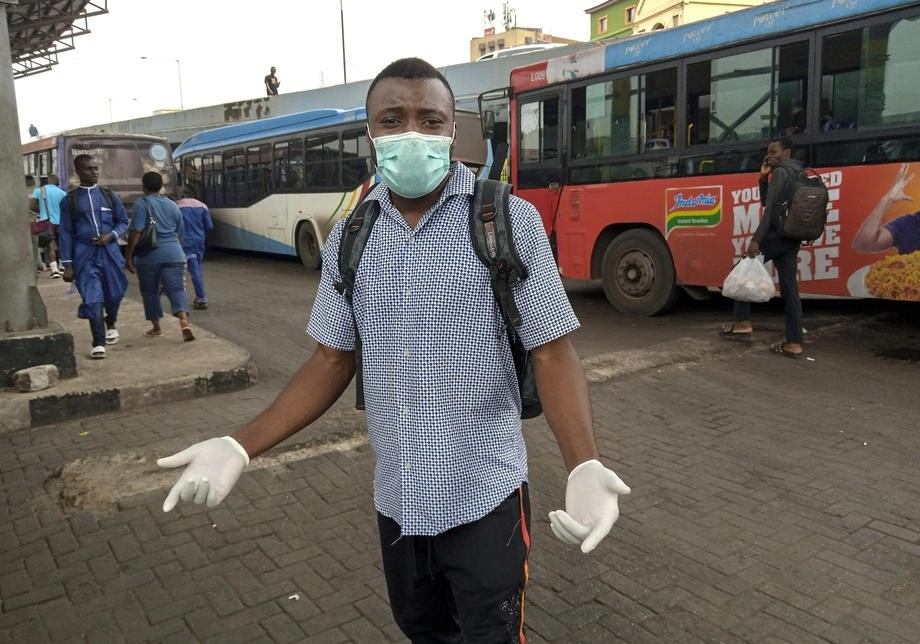face_no_mask: (72, 150, 103, 191), (764, 138, 794, 169)
face_with_mask: (365, 67, 464, 199)
